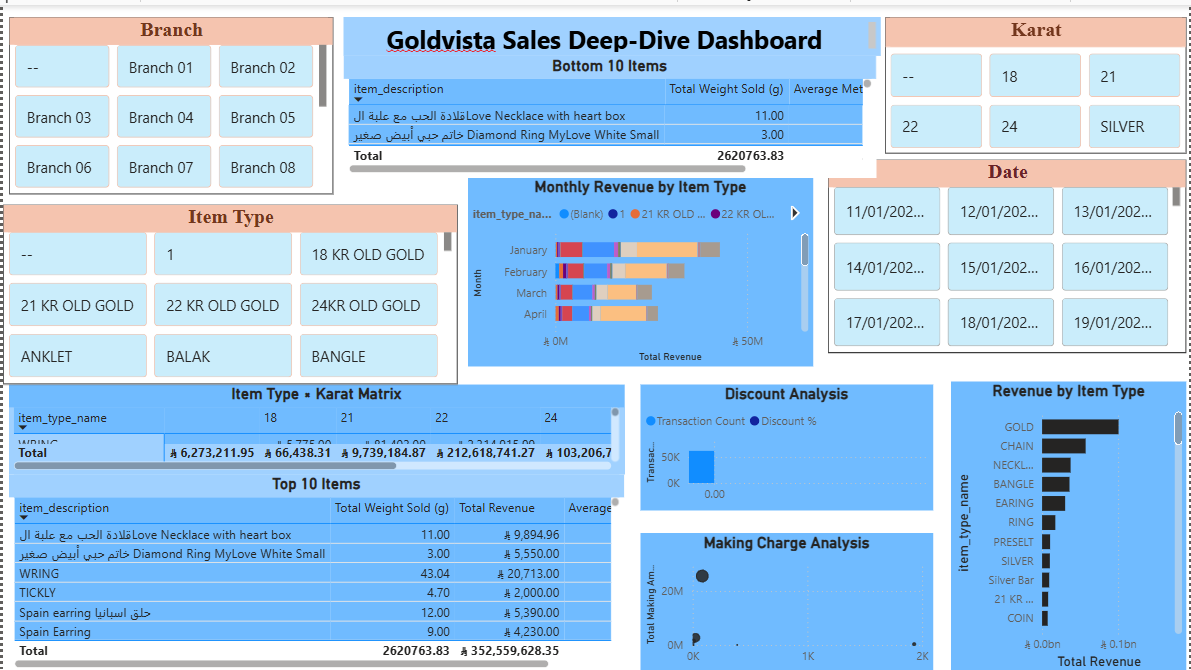

This screenshot's page, from the dashboard's own definition file:
{"tool":"powerbi","page":{"name":"Sales Deep-Dive","canvas":[1280,720],"ordinal":2},"visuals":[{"type":"textbox","box":[367.6,13,579.7,42.1],"z":0},{"type":"clusteredBarChart","title":"Revenue by Item Type","fields":{"Y":["Date.Total Revenue"],"Category":["public dim_item_type.item_type_name"]},"box":[1023.4,406.4,254.2,314.1],"z":1000},{"type":"pivotTable","title":"Item Type × Karat Matrix","fields":{"Rows":["public dim_item_type.item_type_name"],"Values":["Date.Total Revenue"],"Columns":["public dim_karat.karat_name"]},"box":[6.5,409.7,663.9,97.2],"z":2000},{"type":"scatterChart","title":"Making Charge Analysis","fields":{"X":["Customer Purchase Distribution.Average Making Rate"],"Y":["Customer Purchase Distribution.Total Making Amount"],"Size":["Date.Total Revenue"],"Category":["public dim_karat.karat_name"]},"box":[688.2,570,315.7,150.6],"z":3000},{"type":"clusteredColumnChart","title":"Discount Analysis","fields":{"Category":["public fact_returns.discount_percentage (bins)"],"Y":["Customer Purchase Distribution.Transaction Count","Customer First Purchase.Discount %"]},"box":[688.2,409.7,315.7,136],"z":4000},{"type":"tableEx","title":"Top 10 Items","fields":{"Values":["public dim_item.item_description","Date.Total Weight Sold (g)","Date.Total Revenue","Customer Purchase Distribution.Average Metal Rate"]},"box":[6.5,506.8,663.9,213.7],"z":5000},{"type":"barChart","title":"Monthly Revenue by Item Type","fields":{"Category":["Date.Date.Variation.Date Hierarchy.Month"],"Series":["public dim_item_type.item_type_name"],"Y":["Date.Total Revenue"]},"box":[502,186.2,372.4,204],"z":6000},{"type":"advancedSlicerVisual","title":"Branch","fields":{"Values":["public dim_branch.branch_name"]},"box":[6.5,13,349.8,191.1],"z":7000},{"type":"advancedSlicerVisual","title":"Karat","fields":{"Values":["public dim_karat.karat_name"]},"box":[952.1,13,325.5,147.3],"z":8000},{"type":"advancedSlicerVisual","title":"Item Type","fields":{"Values":["public dim_item_type.item_type_name"]},"box":[0,215.4,490.6,194.3],"z":9000},{"type":"advancedSlicerVisual","fields":{"Values":["Date.Date"]},"box":[890.6,166.8,387,208.9],"z":10000},{"type":"tableEx","title":"Bottom 10 Items","fields":{"Values":["public dim_item.item_description","Date.Total Weight Sold (g)","Customer Purchase Distribution.Average Metal Rate","Date.Total Revenue"]},"box":[367.6,55.1,574.8,131.2],"z":11000}]}

Visuals, with their boxes in screenshot pixels (x1, y1, x2, y2), scaled from the page's 1280x720 canvas onto the 1191x670 screenshot:
textbox: <bbox>342, 12, 881, 51</bbox>
"Revenue by Item Type" clusteredBarChart: <bbox>952, 378, 1189, 669</bbox>
"Item Type × Karat Matrix" pivotTable: <bbox>6, 381, 624, 472</bbox>
"Making Charge Analysis" scatterChart: <bbox>640, 530, 934, 669</bbox>
"Discount Analysis" clusteredColumnChart: <bbox>640, 381, 934, 508</bbox>
"Top 10 Items" tableEx: <bbox>6, 472, 624, 669</bbox>
"Monthly Revenue by Item Type" barChart: <bbox>467, 173, 814, 363</bbox>
"Branch" advancedSlicerVisual: <bbox>6, 12, 332, 190</bbox>
"Karat" advancedSlicerVisual: <bbox>886, 12, 1189, 149</bbox>
"Item Type" advancedSlicerVisual: <bbox>0, 200, 456, 381</bbox>
advancedSlicerVisual - Date.Date: <bbox>829, 155, 1189, 350</bbox>
"Bottom 10 Items" tableEx: <bbox>342, 51, 877, 173</bbox>
